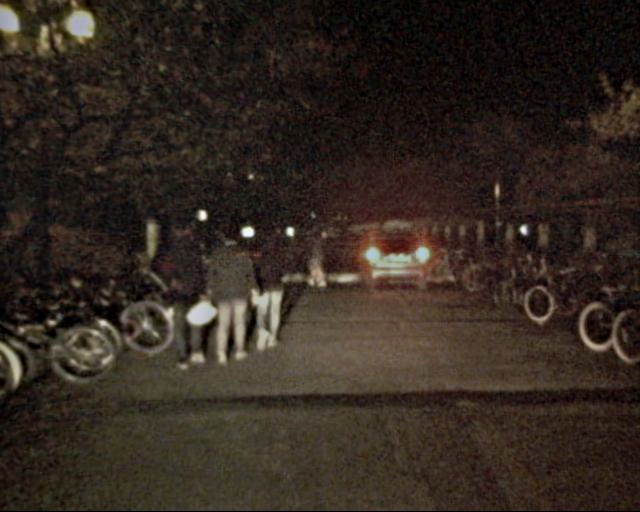person: (155, 217, 213, 364), (201, 226, 255, 363), (241, 226, 293, 353), (299, 224, 327, 292)
